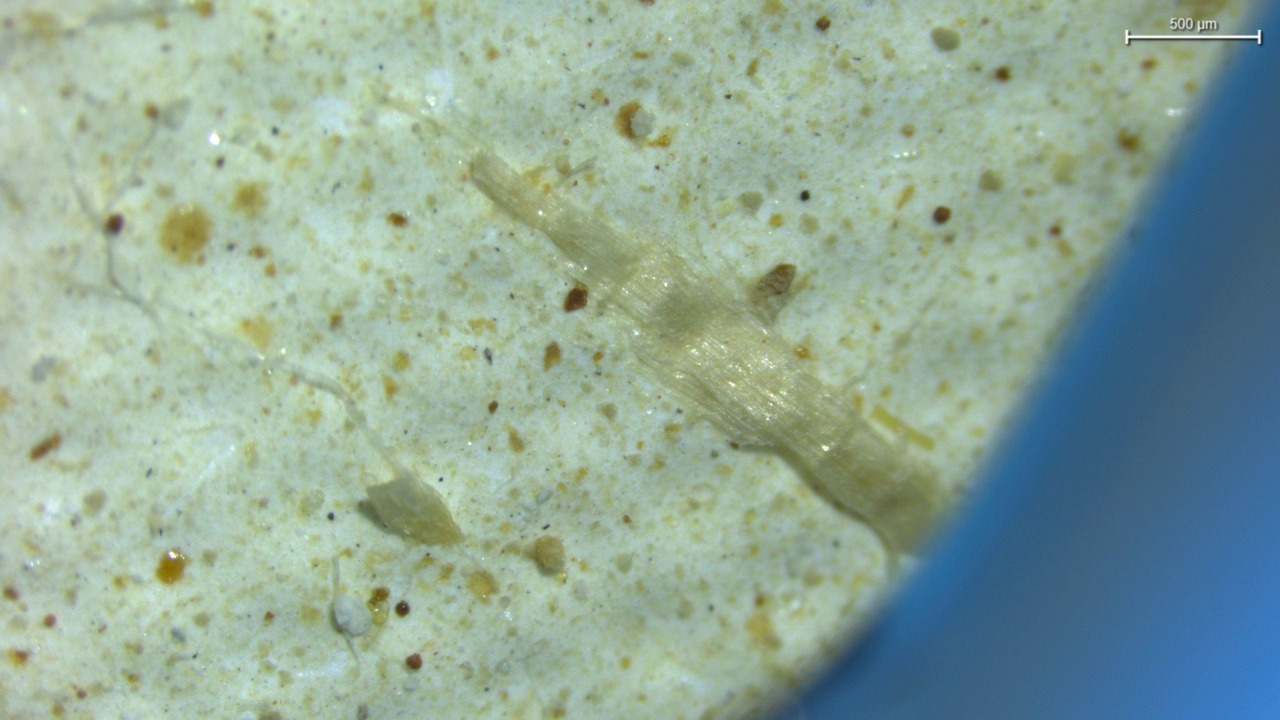microplastic_fragment: (470, 153, 935, 548), (362, 472, 462, 544), (527, 535, 565, 580), (333, 594, 372, 637), (630, 106, 655, 141)
